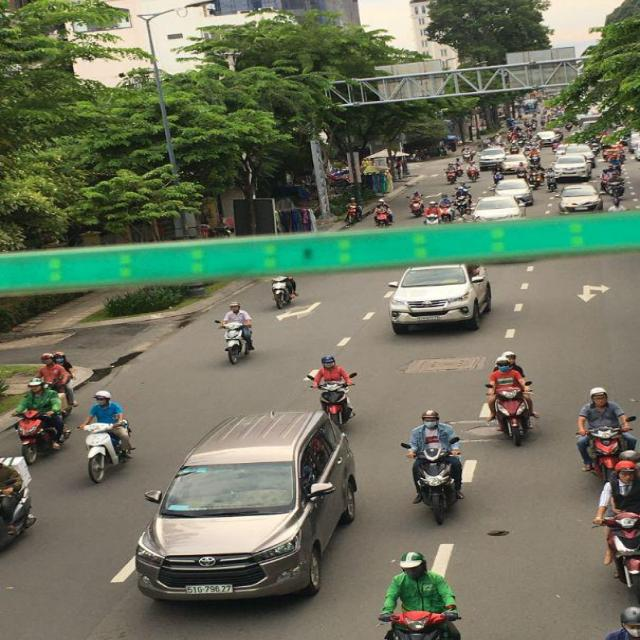car: (133, 405, 362, 605), (387, 264, 492, 336), (549, 151, 595, 186), (559, 184, 603, 215), (471, 196, 522, 222), (481, 150, 507, 172)
motorcycle: (408, 443, 466, 526), (596, 508, 640, 606), (83, 419, 137, 485), (17, 406, 72, 466), (0, 471, 36, 561), (582, 424, 638, 480), (494, 378, 537, 444), (223, 325, 254, 365), (271, 279, 297, 309), (374, 206, 394, 228)
